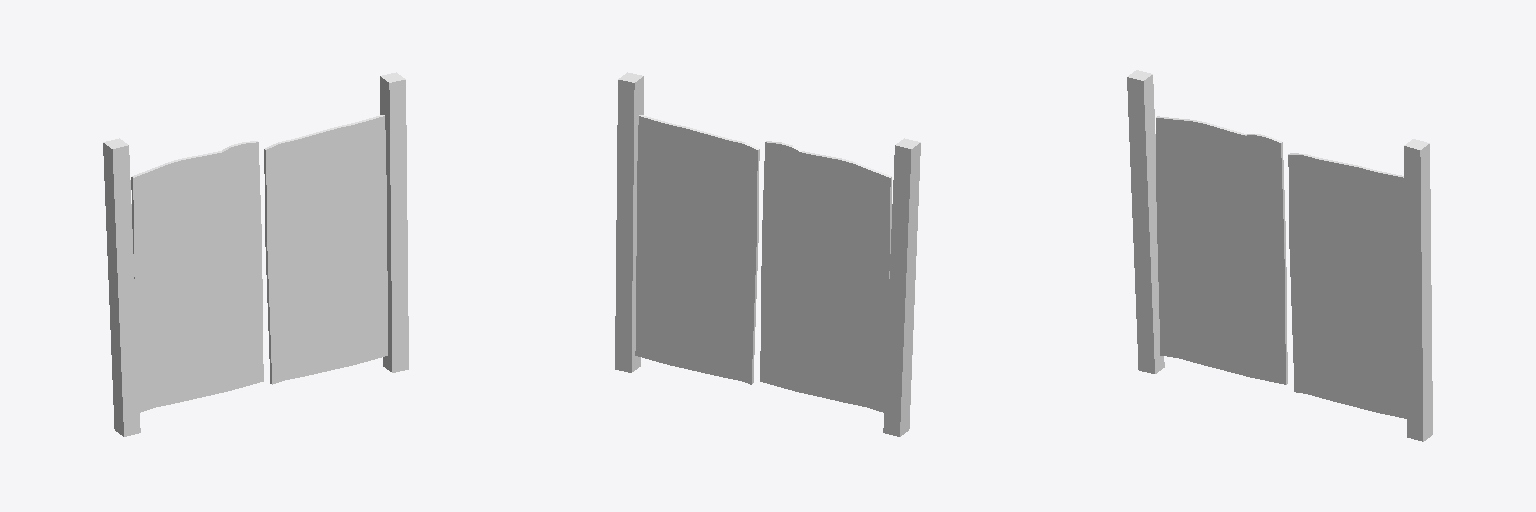
File: worn_fence_gate.obj
3 views of the same model, side by side, from view 1: azimuth 30°, elevation 25°; view 2: azimuth 150°, elevation 25°; view 3: azimuth 330°, elevation 25° (orthographic).
Parts seen in each view (by area): view 1: def_surf_mat; view 2: def_surf_mat; view 3: def_surf_mat.
Boxes of the visible parts, x1,y1,x2,y2 form: def_surf_mat: [103, 72, 408, 436]; def_surf_mat: [615, 72, 920, 436]; def_surf_mat: [1127, 70, 1432, 441].
Bounding box in the file's own units: 117 × 110 × 6.55.